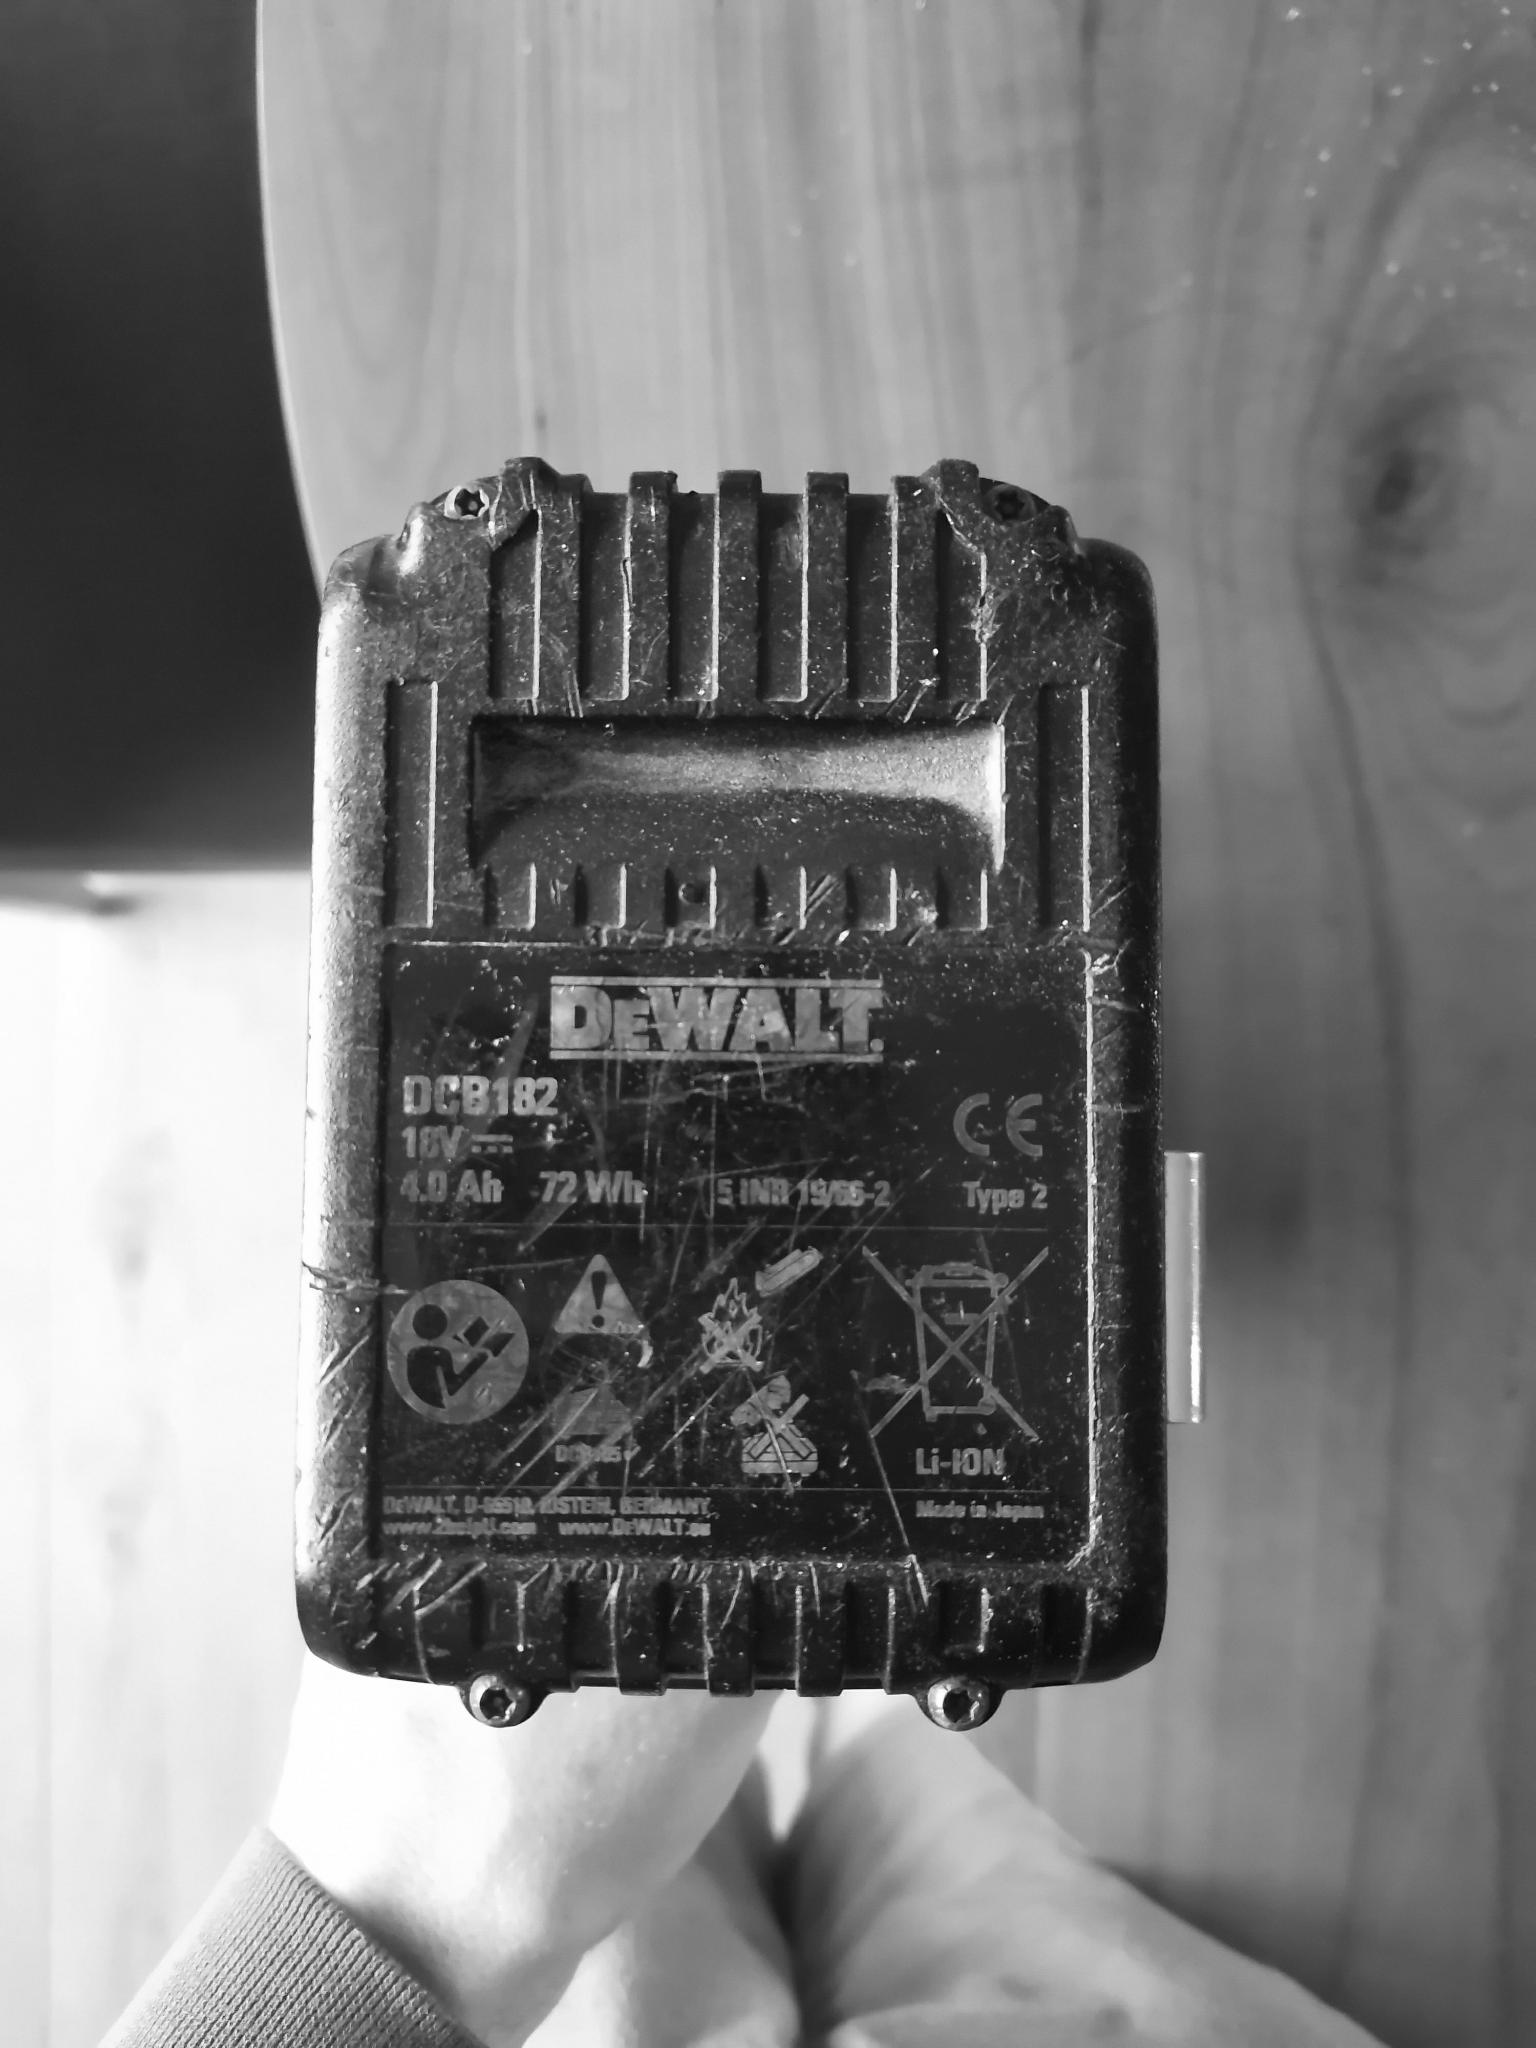torx: (921, 1666, 994, 1732), (458, 1664, 529, 1729), (436, 474, 502, 532)
